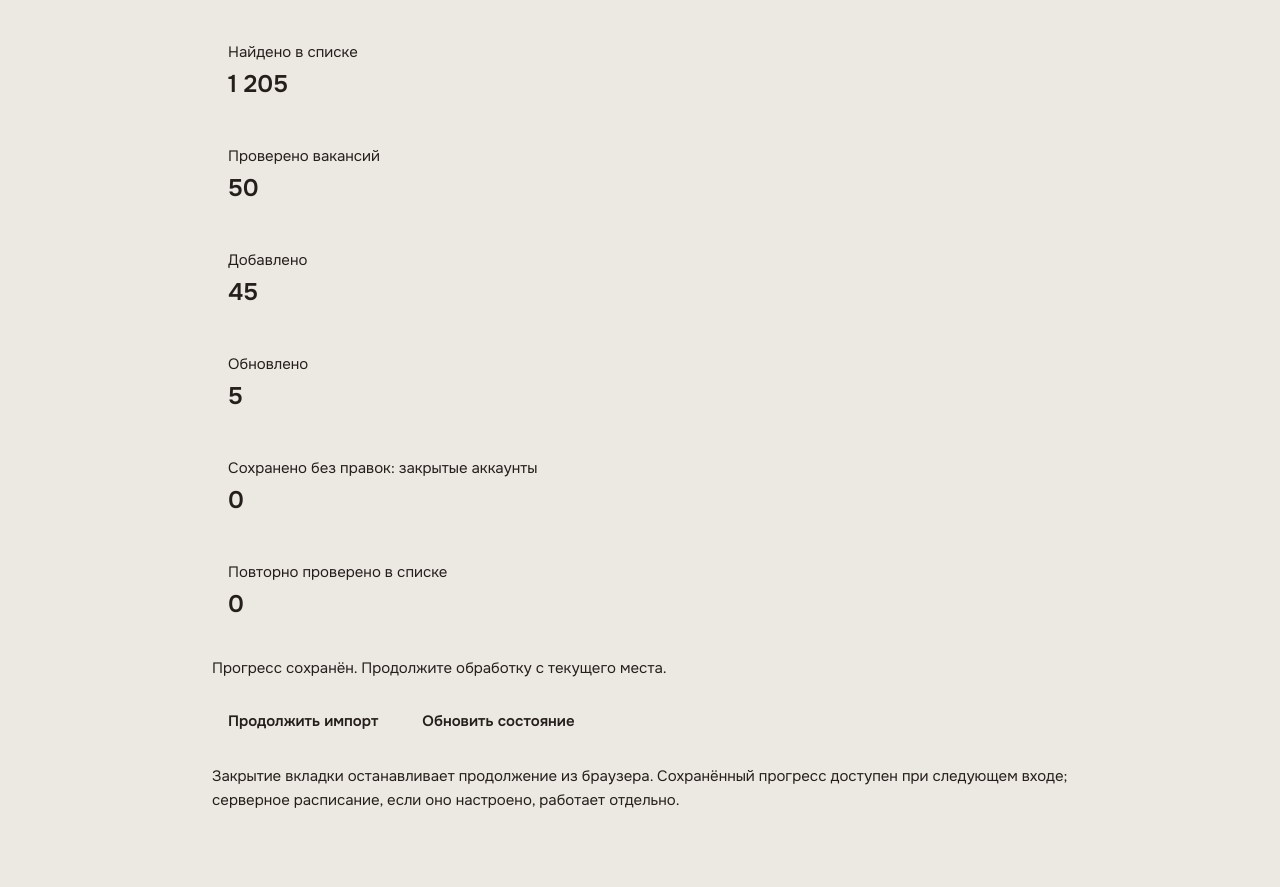
Test: saved progress is shown without automatically starting work; a reload failure cannot be displayed as a successful empty import
The image size is (1280, 887).
(page scrolled)
Expected: the button "Продолжить импорт" is shown, [212,700,394,744]
Click the button "Обновить состояние" at (498, 722), box [406,700,590,744]
(page scrolled)
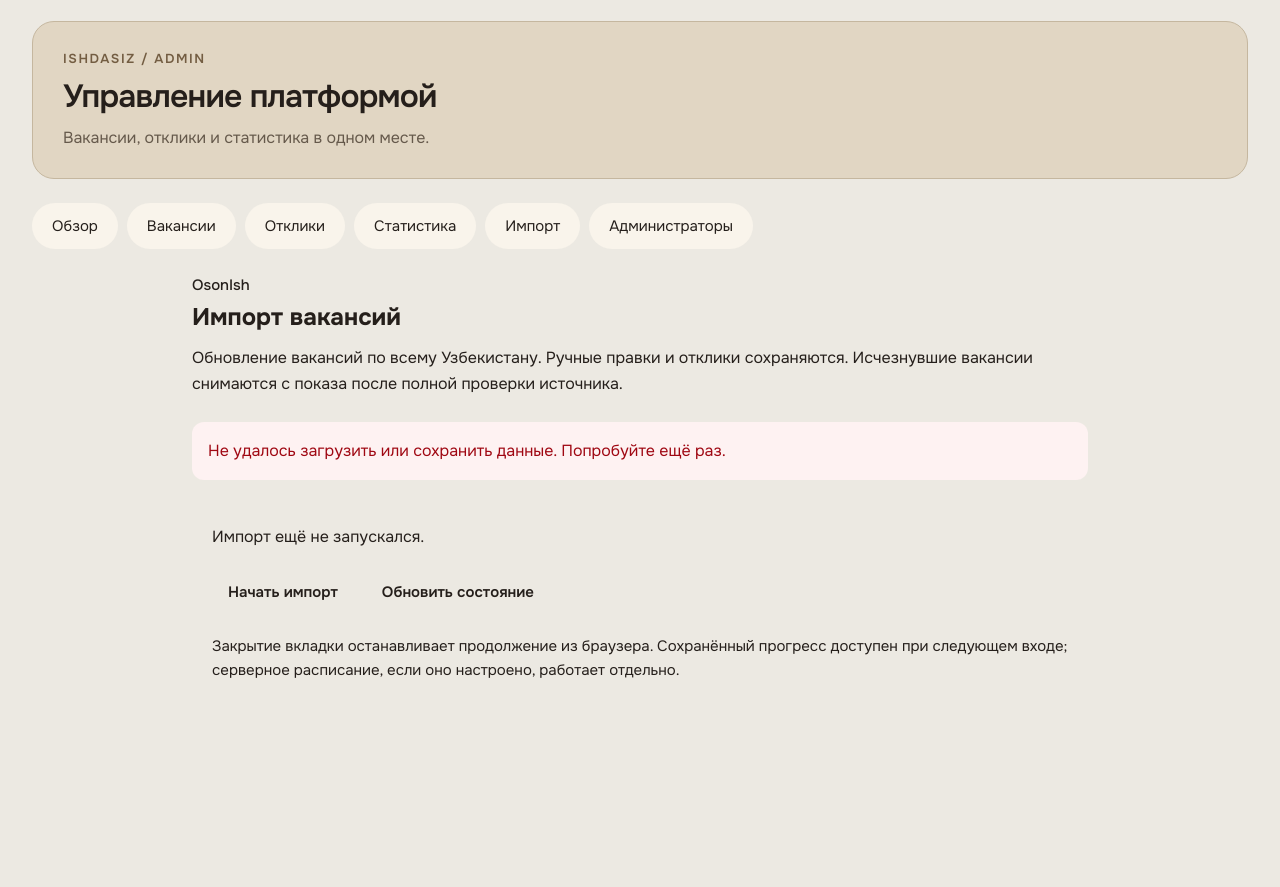
Now the message "Не удалось загрузить или сохранить данные. Попробуйте ещё раз." is shown, box [192,422,1088,480]
Now the button "Начать импорт" is disabled, box [212,570,354,614]
